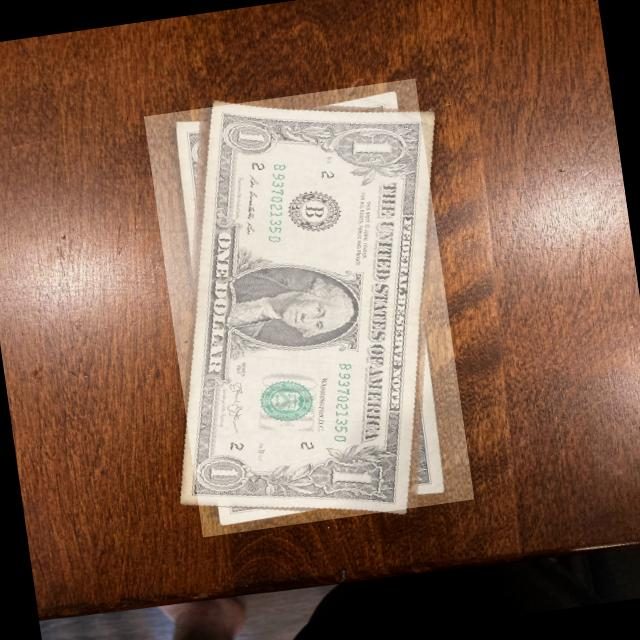one: (144, 79, 475, 538)
